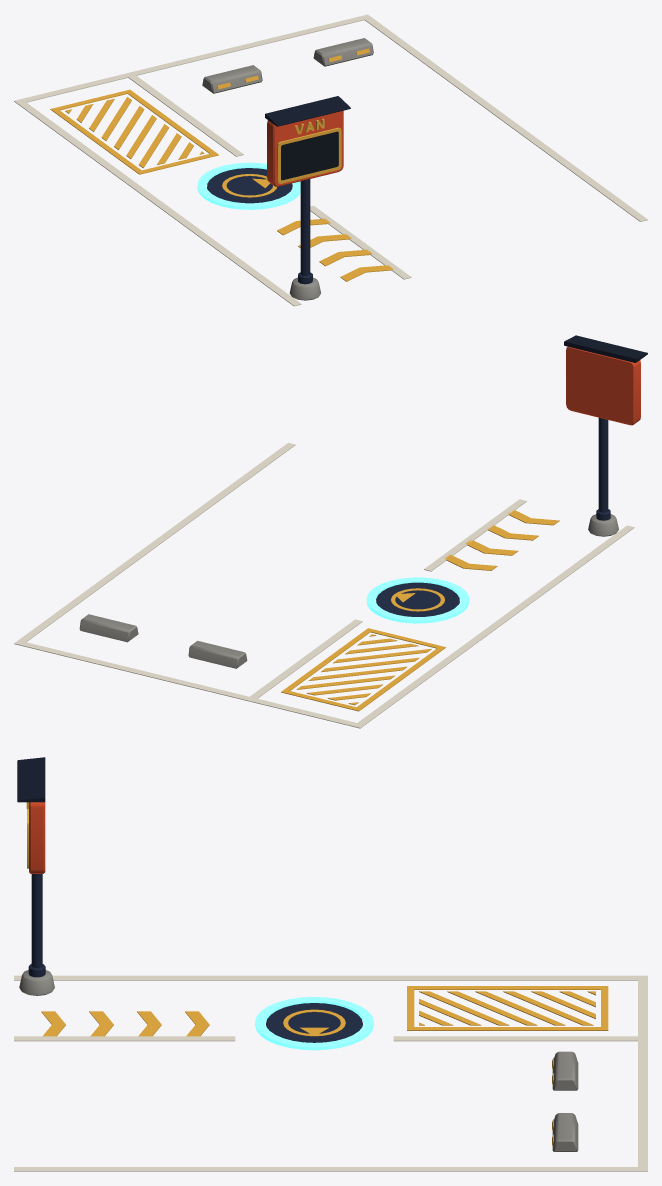
Rendered from Lobby_VanBay.fbx.
The picture shows the model from 3 angles, top to bottom: view 1: azimuth 30°, elevation 25°; view 2: azimuth 150°, elevation 25°; view 3: azimuth 270°, elevation 25°; orthographic projection. The views are drawn at different scales.
Parts seen in each view (by area): view 1: PaintWhite, PaintMustard, Screen, WheelStops, SignBox, PadDisc, PadRing, SignTrim, SignCap, Pole, Footing, PadMark; view 2: PaintWhite, PaintMustard, SignBox, WheelStops, PadDisc, PadRing, Pole, SignCap; view 3: PaintWhite, PaintMustard, PadDisc, PadRing, WheelStops, Pole, SignCap, SignBox, Footing, PadMark.
Boxes of the visible parts, x1,y1,x2,y2 form: PaintWhite: (14, 14, 647, 306); PaintMustard: (50, 89, 393, 281); Screen: (281, 131, 338, 180); WheelStops: (202, 38, 373, 93); SignBox: (267, 110, 343, 186); PadDisc: (207, 168, 292, 203); PadRing: (197, 162, 300, 209); SignTrim: (217, 48, 369, 183); SignCap: (265, 96, 350, 126); Pole: (298, 179, 312, 284); Footing: (289, 277, 320, 300); PadMark: (222, 174, 276, 197); PaintWhite: (14, 442, 634, 728); PaintMustard: (281, 510, 559, 711); SignBox: (566, 346, 640, 425); WheelStops: (79, 614, 247, 668); PadDisc: (376, 582, 459, 616); PadRing: (366, 577, 469, 623); Pole: (596, 417, 610, 520); SignCap: (564, 335, 647, 362); PaintWhite: (14, 975, 647, 1171); PaintMustard: (41, 986, 608, 1036); PadDisc: (266, 1003, 362, 1042); PadRing: (255, 997, 373, 1050); WheelStops: (552, 1051, 578, 1151); Pole: (28, 874, 45, 977); SignCap: (17, 757, 45, 802); SignBox: (29, 802, 45, 873); Footing: (19, 970, 54, 995); PadMark: (283, 1009, 345, 1036).
Bounding box in the file's own units: 1460 × 707 × 1920.
